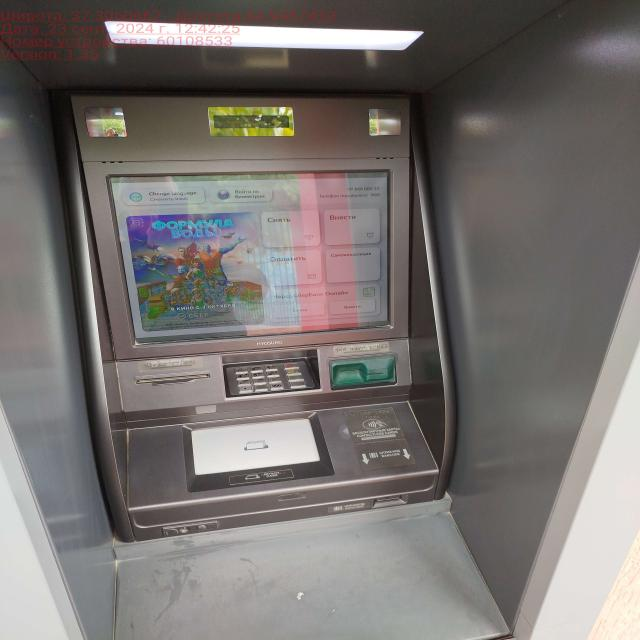bank: (26, 66, 564, 640)
